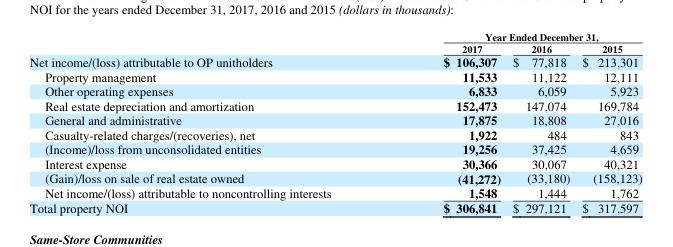table: (29, 28, 641, 216)
table column: (29, 28, 386, 216), (386, 28, 506, 216), (506, 28, 575, 216), (575, 28, 641, 216)
table column header: (29, 28, 641, 54)
table row: (29, 200, 641, 216), (29, 54, 641, 69), (29, 83, 641, 98), (29, 112, 641, 127), (29, 141, 641, 156), (29, 170, 641, 185), (29, 185, 641, 200), (29, 28, 641, 42), (29, 69, 641, 83), (29, 98, 641, 112), (29, 127, 641, 141), (29, 156, 641, 170), (29, 42, 641, 54)
table spanning cell: (386, 28, 641, 42)
